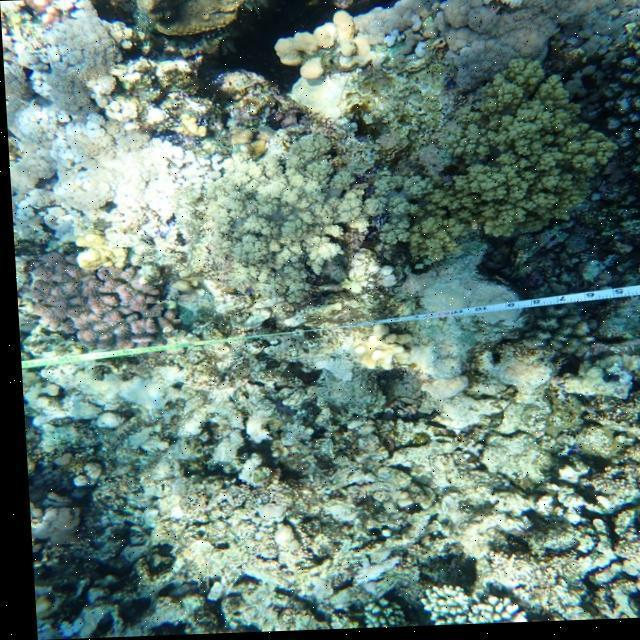Bleached Coral: (191, 145, 377, 317), (3, 2, 116, 245), (44, 116, 208, 268), (422, 585, 526, 624), (347, 322, 405, 375)
Healthy Coral: (408, 61, 614, 263), (19, 252, 175, 348)
